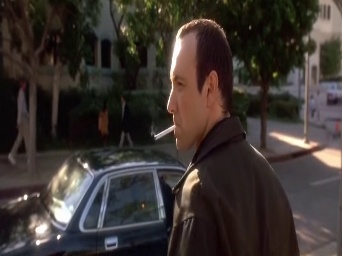smoke: (153, 124, 177, 139)
